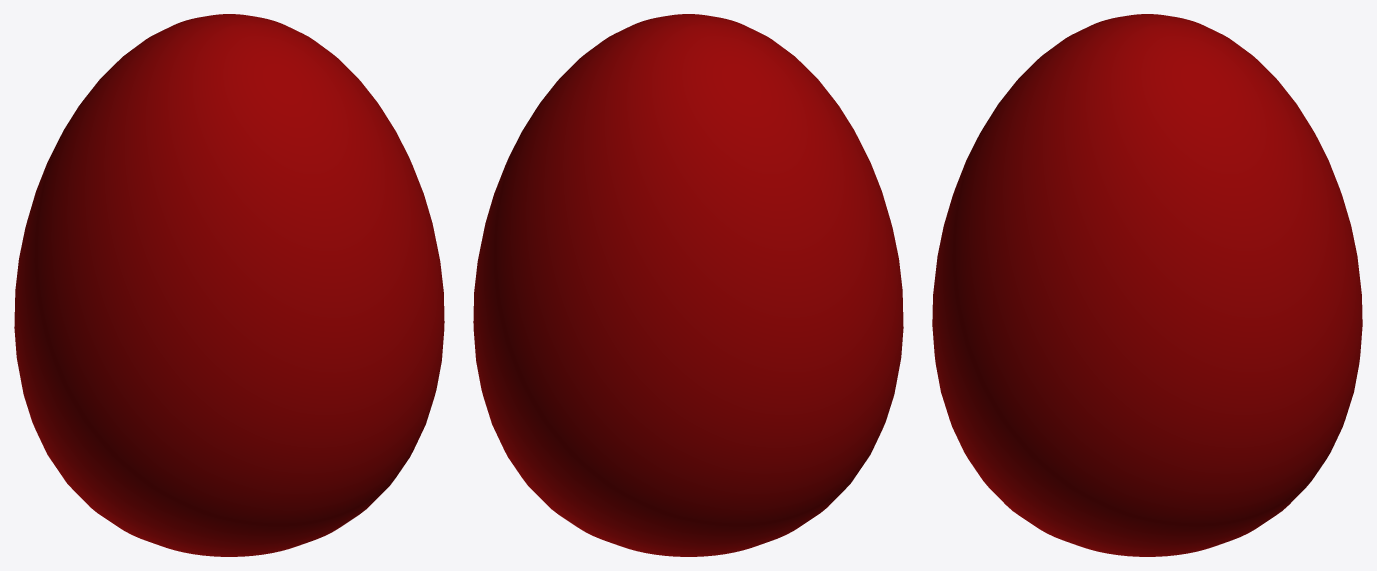
Rendered from egg2.fbx.
3 views of the same model, side by side, from view 1: azimuth 30°, elevation 25°; view 2: azimuth 150°, elevation 25°; view 3: azimuth 270°, elevation 25° (orthographic).
Parts seen in each view (by area): view 1: Line001; view 2: Line001; view 3: Line001.
Boxes of the visible parts, bbox=[...] form: Line001: bbox=[14, 14, 444, 556]; Line001: bbox=[473, 14, 903, 556]; Line001: bbox=[932, 14, 1362, 556].
Size of the model in its own units: 84.78 by 110 by 84.78.
